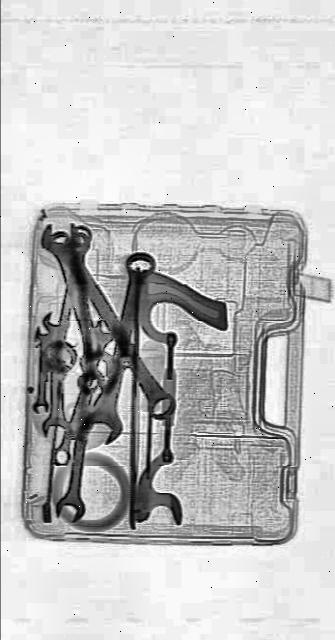Wrench: (48, 212, 178, 433), (78, 237, 166, 457), (39, 204, 111, 372), (50, 312, 116, 476), (56, 330, 110, 526), (41, 310, 73, 438), (32, 324, 54, 414)
